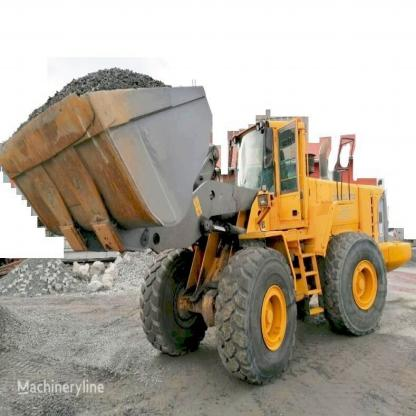bull_dozer/loader/grader: (3, 60, 410, 384)
